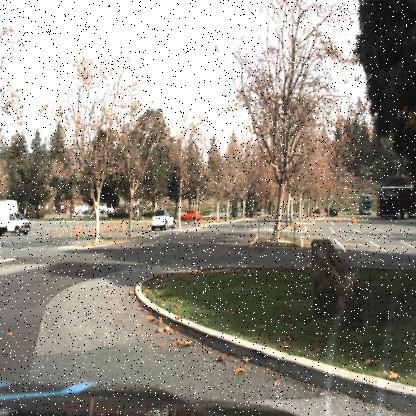car: (149, 206, 176, 232), (178, 208, 202, 222)
truck: (376, 184, 416, 220), (1, 197, 32, 240), (359, 191, 371, 215)
